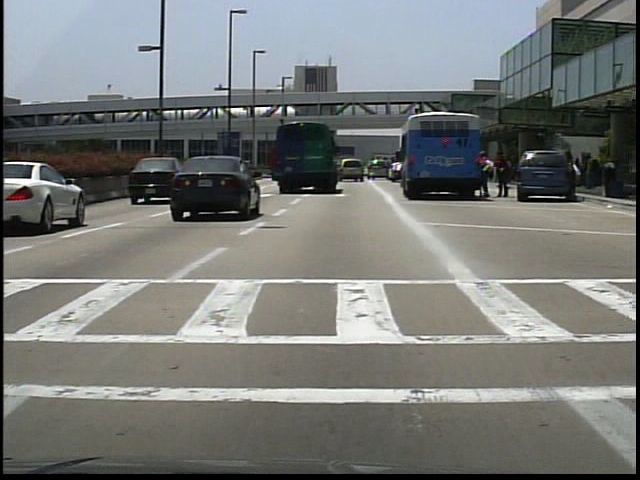person: (478, 152, 494, 199), (495, 153, 511, 199), (570, 161, 585, 201)
